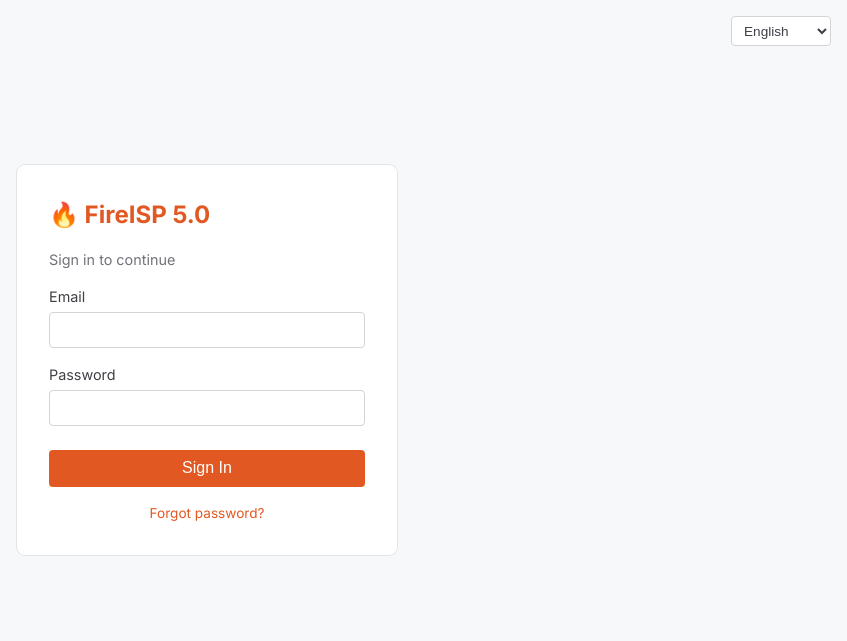
Login page › shows TOTP field when server requires two-factor
Type "totp@test.com" into the field labelled "Email" at [207, 330], box [49, 312, 365, 348]
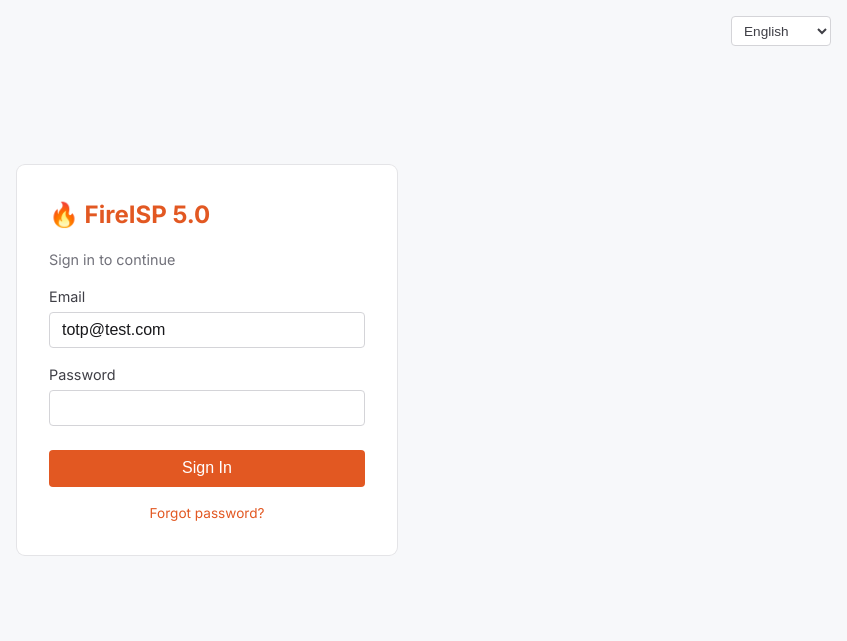
Type "pass" into the password field labelled "Password" at [207, 408], box [49, 390, 365, 426]
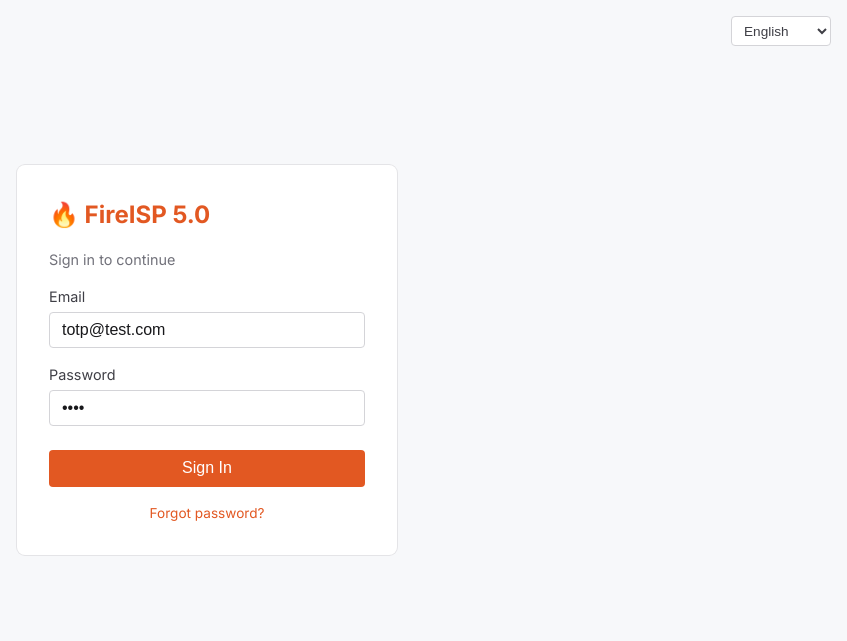
Click the button "Sign In" at [207, 468], box [49, 450, 365, 487]
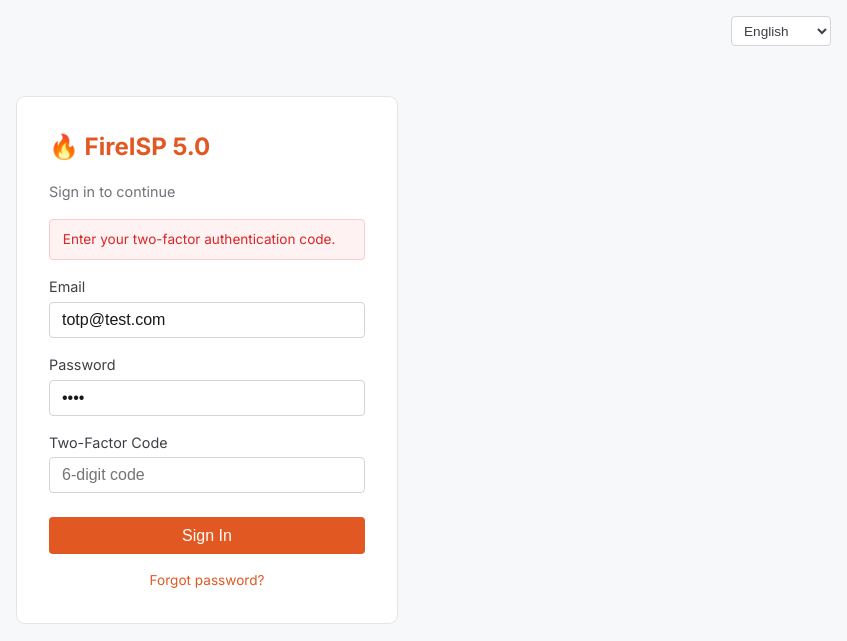
Expected: the text "Enter your two-factor authentication code." is shown, [49, 219, 365, 260]
Expected: the field labelled "Two-Factor Code" is shown, [49, 457, 365, 493]
